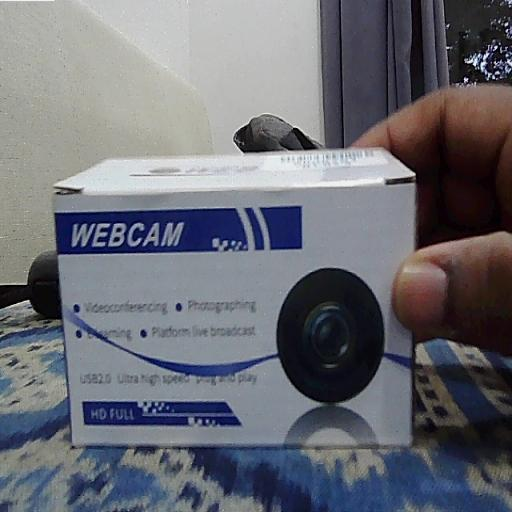webcam_box: (54, 148, 418, 451)
